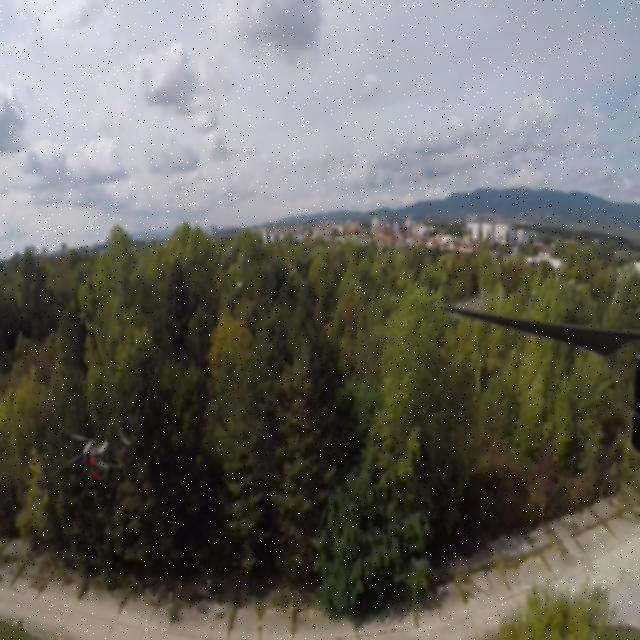UAV: (52, 421, 134, 506)
